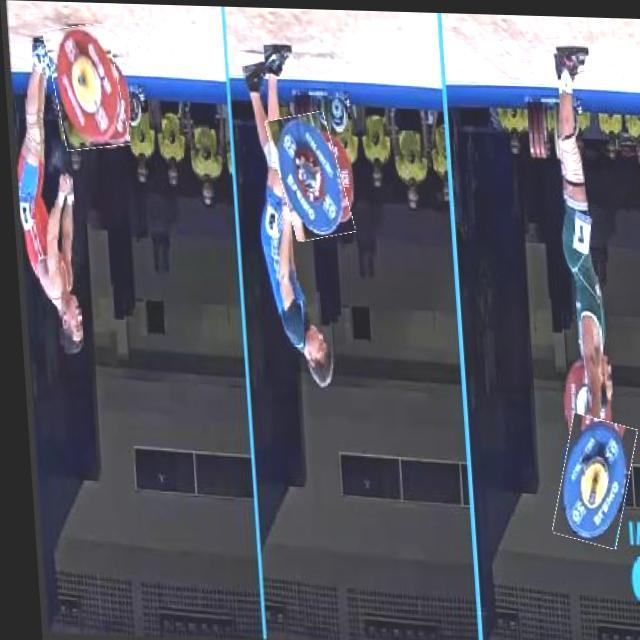barbell: (547, 412, 632, 544), (269, 111, 348, 239), (47, 24, 126, 151)
